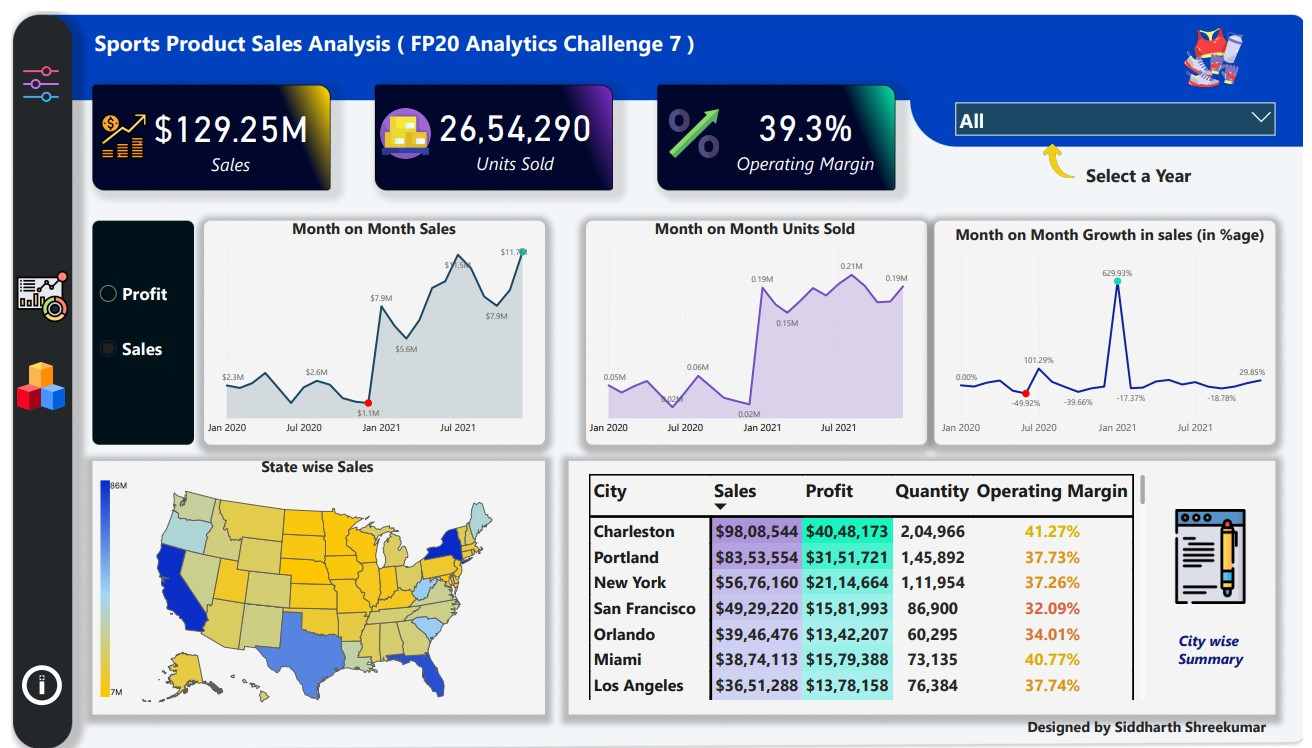

What the dashboard file says about the page in this screenshot:
{"tool":"powerbi","page":{"name":"Summary","canvas":[1920,1115],"ordinal":0},"visuals":[{"type":"shapeMap","fields":{"Value":["DAX Table.Sales"],"Category":["dim_Geography.State"]},"box":[118,662,674,388],"z":0},{"type":"areaChart","fields":{"Y":["DAX Table.Sales"],"Category":["dim_Calendar.Start of Month"]},"box":[286,308,506,332],"z":1000},{"type":"slicer","fields":{"Values":["Sales & Profit.Sales & Profit"]},"box":[118,374,154,202],"z":2000},{"type":"slicer","fields":{"Values":["dim_Calendar.Year"]},"box":[1394,126,496,68],"z":3000},{"type":"areaChart","title":"Month on Month Units Sold","fields":{"Category":["dim_Calendar.Start of Month"],"Y":["DAX Table.Quantity"]},"box":[854,308,504,332],"z":4000},{"type":"pivotTable","fields":{"Rows":["dim_Geography.City"],"Values":["DAX Table.Sales","DAX Table.Profit","DAX Table.Quantity","DAX Table.Operating Margin"]},"box":[854,684,838,346],"z":5000},{"type":"card","fields":{"Values":["DAX Table.Sales"]},"box":[196,120,260,134],"z":6000},{"type":"textbox","box":[118,20,912,72],"z":7000},{"type":"textbox","box":[1506,1044,384,46],"z":8000},{"type":"image","box":[1506,194,104,58],"z":9000},{"type":"textbox","box":[1586,220,210,66],"z":10000},{"type":"image","box":[118,148,98,76],"z":11000},{"type":"card","fields":{"Values":["DAX Table.Quantity"]},"box":[624,118,250,134],"z":12000},{"type":"image","box":[544,140,84,84],"z":13000},{"type":"card","fields":{"Values":["DAX Table.Operating Margin"]},"box":[1056,118,250,134],"z":14000},{"type":"image","box":[974,140,82,84],"z":15000},{"type":"image","box":[1710,20,158,98],"z":16000},{"type":"lineChart","title":"Month on Month Growth in sales (in %age)","fields":{"Category":["dim_Calendar.Start of Month"],"Y":["DAX Table.Growth on sales"]},"box":[1378,316,512,324],"z":17000},{"type":"image","box":[1698,736,170,150],"z":18000},{"type":"textbox","box":[1694,916,180,100],"z":19000},{"type":"actionButton","box":[10,968,70,70],"z":20000},{"type":"image","box":[4,78,80,62],"z":21000},{"type":"image","box":[0,518,88,80],"z":23000},{"type":"image","box":[2,374,88,102],"z":24000}]}

Visuals, with their boxes on the page's 1920x1115 design canvas (x1, y1, x2, y2). These are canvas units, not pixel positions in the 1312x748 screenshot, which may show the page scaled, cropped or inside an application window:
shapeMap - DAX Table.Sales x dim_Geography.State: [118,662,792,1050]
areaChart - DAX Table.Sales x dim_Calendar.Start of Month: [286,308,792,640]
slicer - Sales & Profit.Sales & Profit: [118,374,272,576]
slicer - dim_Calendar.Year: [1394,126,1890,194]
"Month on Month Units Sold" areaChart: [854,308,1358,640]
pivotTable - dim_Geography.City x DAX Table.Sales: [854,684,1692,1030]
card - DAX Table.Sales: [196,120,456,254]
textbox: [118,20,1030,92]
textbox: [1506,1044,1890,1090]
image: [1506,194,1610,252]
textbox: [1586,220,1796,286]
image: [118,148,216,224]
card - DAX Table.Quantity: [624,118,874,252]
image: [544,140,628,224]
card - DAX Table.Operating Margin: [1056,118,1306,252]
image: [974,140,1056,224]
image: [1710,20,1868,118]
"Month on Month Growth in sales (in %age)" lineChart: [1378,316,1890,640]
image: [1698,736,1868,886]
textbox: [1694,916,1874,1016]
actionButton: [10,968,80,1038]
image: [4,78,84,140]
image: [0,518,88,598]
image: [2,374,90,476]
